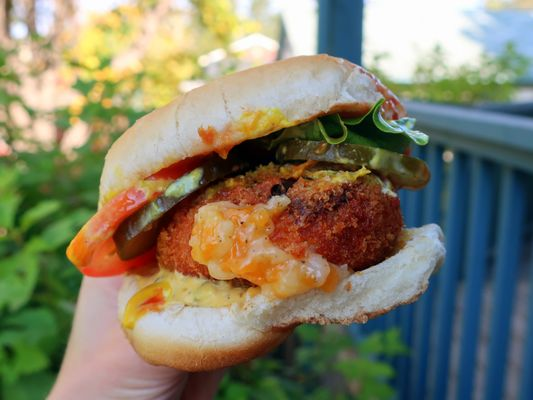curry: (207, 318, 414, 400)
soup: (78, 54, 441, 374)
